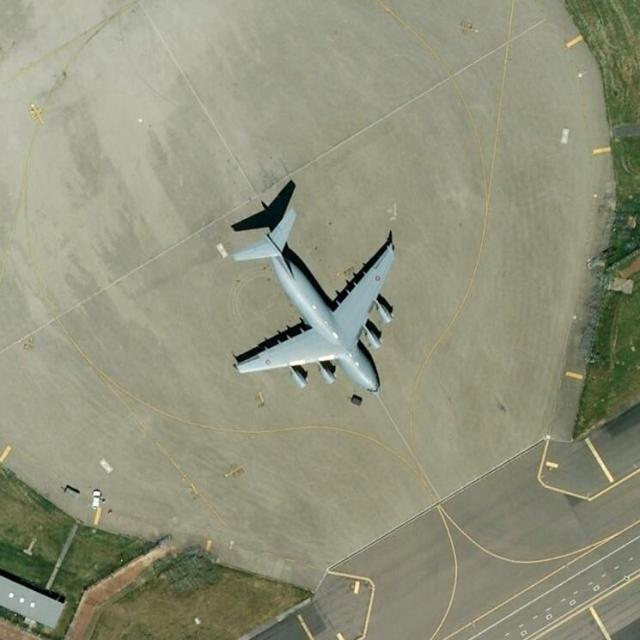fighter jet: (221, 209, 398, 401)
